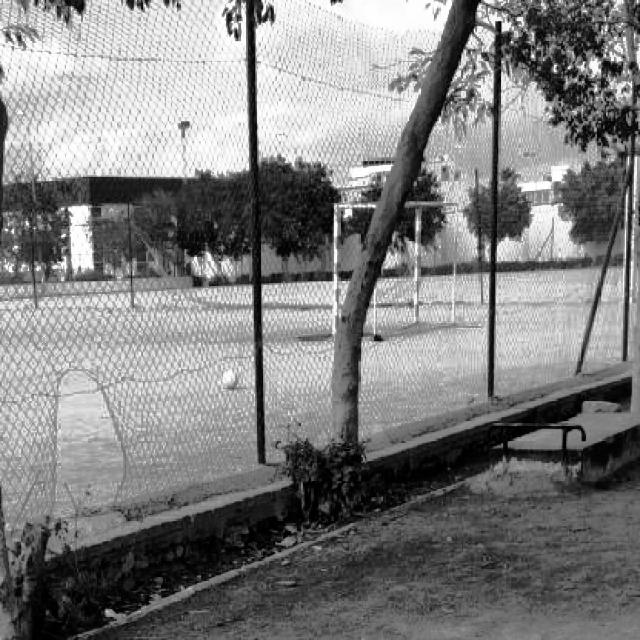anomaly-fence: (20, 324, 148, 527), (360, 16, 444, 65), (301, 405, 408, 438)
